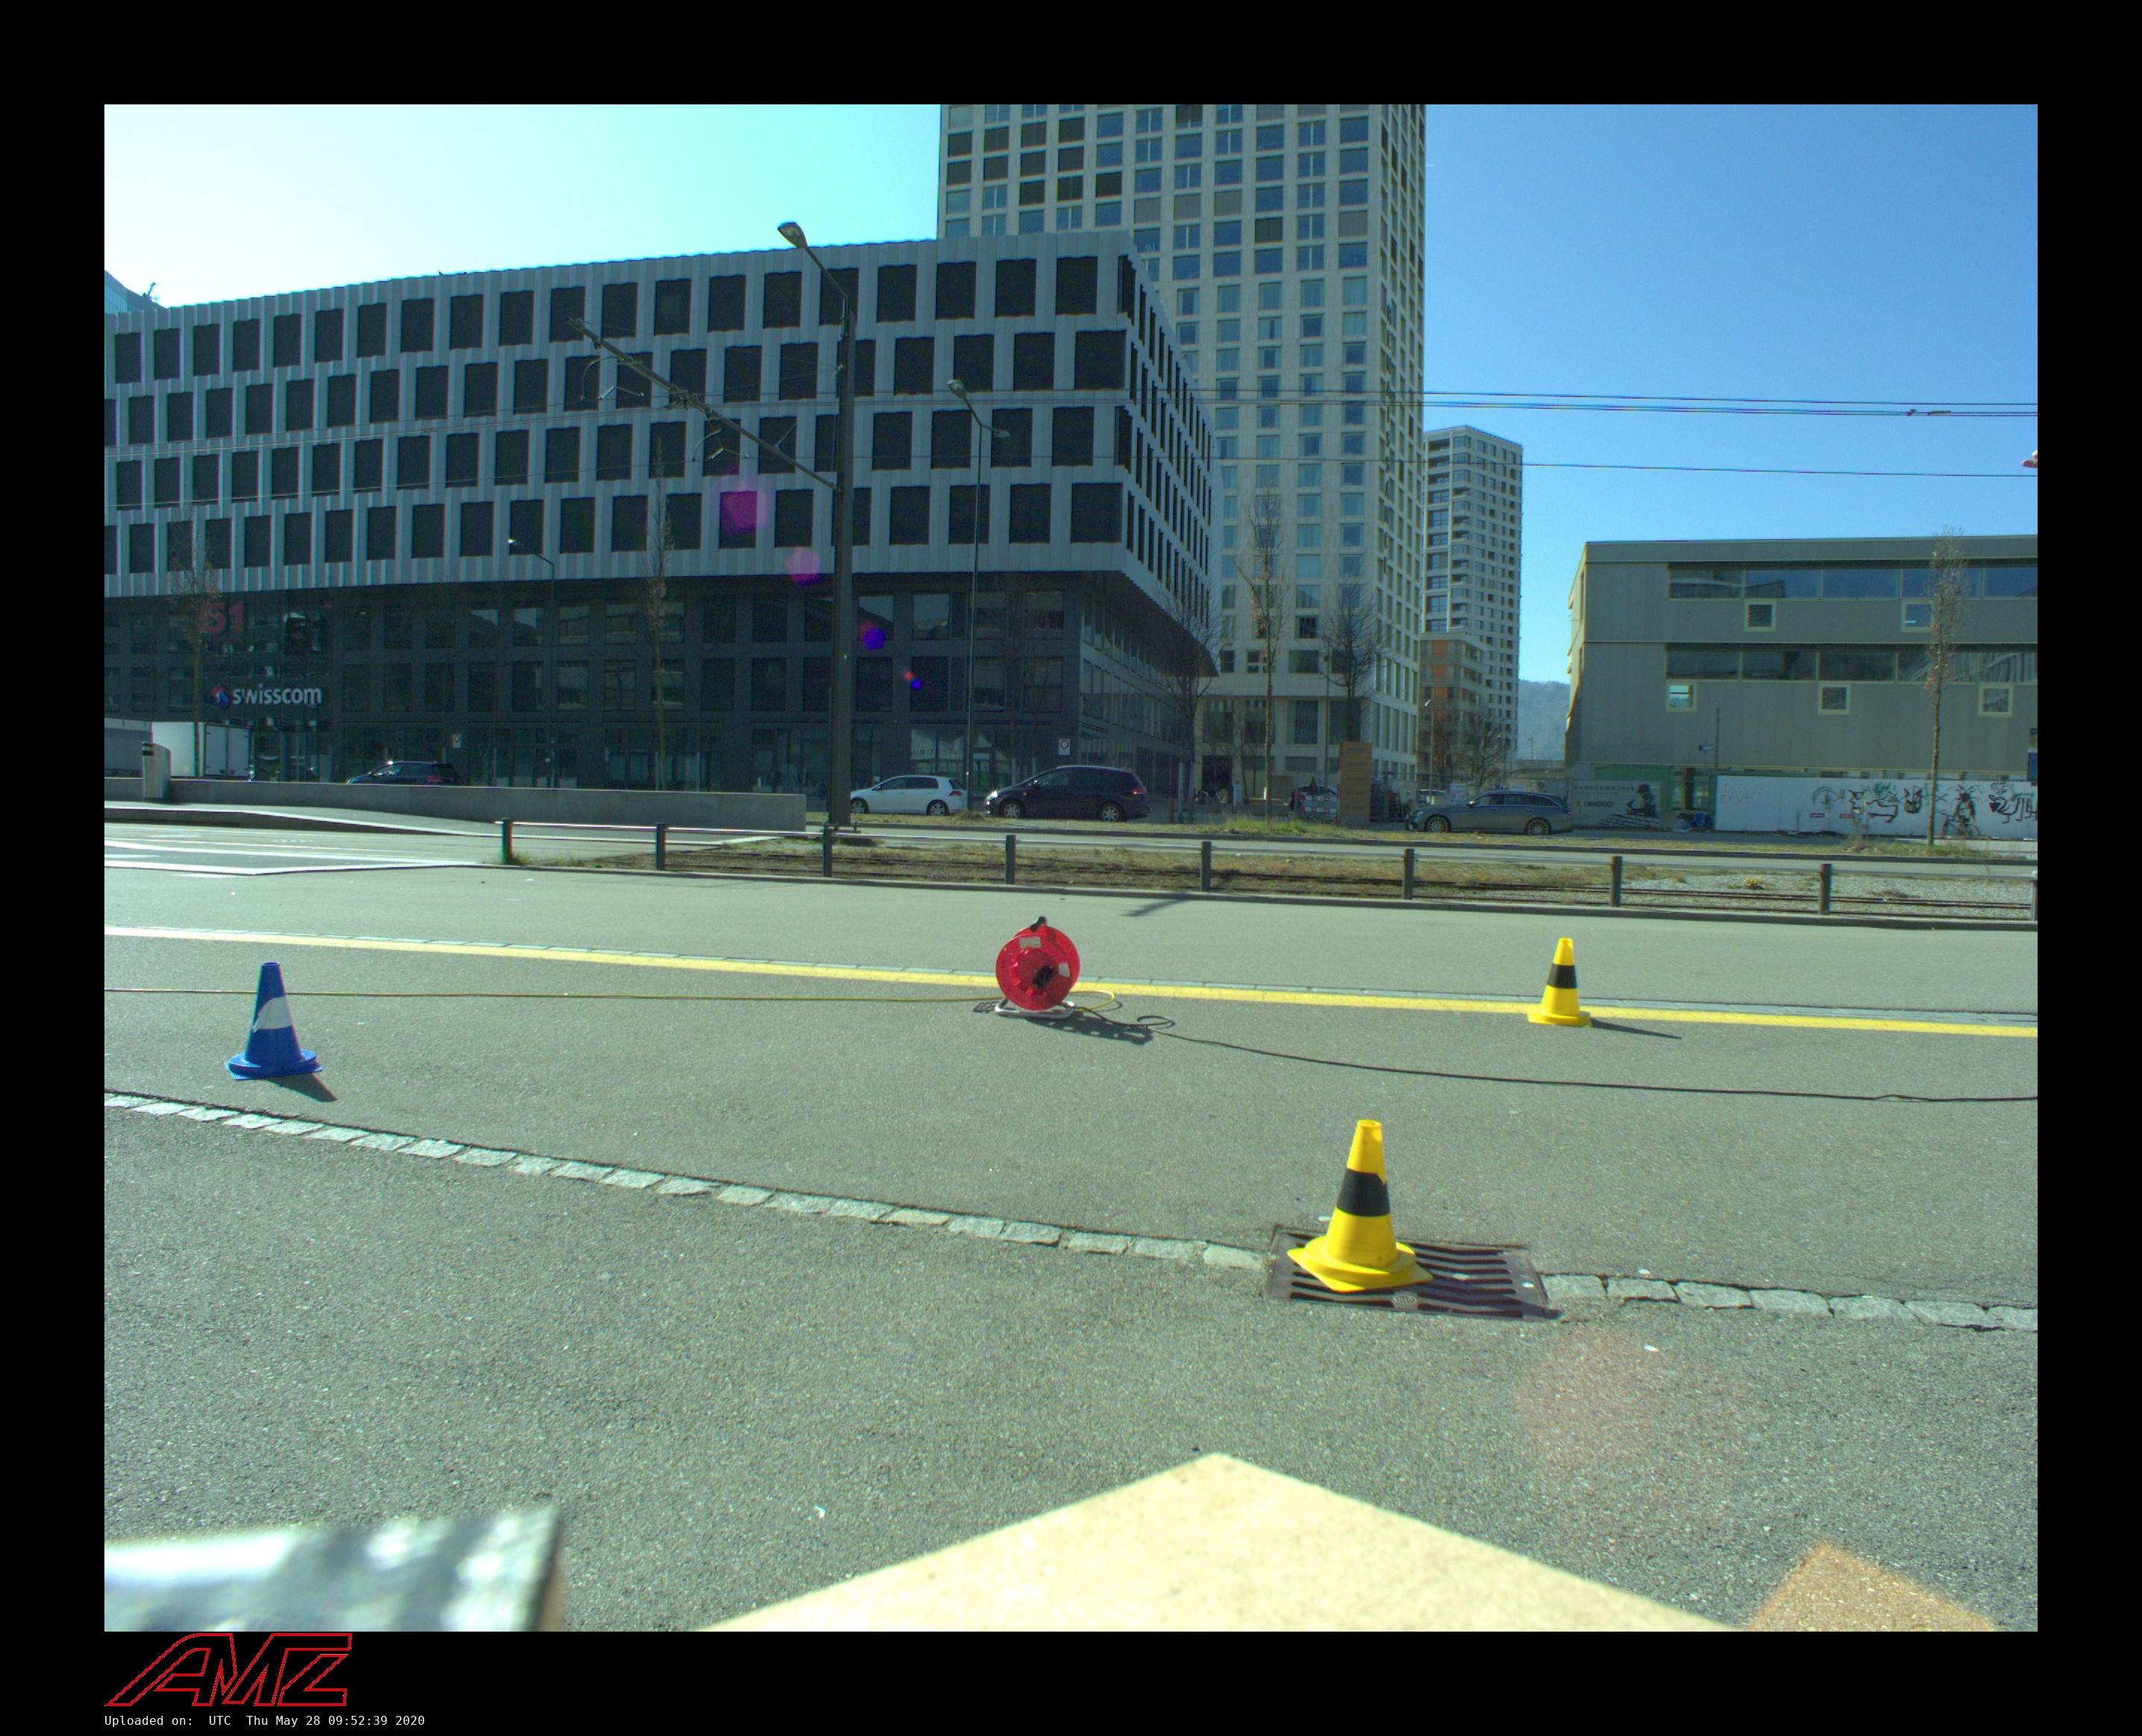blue_cone: (224, 963, 323, 1081)
yellow_cone: (1286, 1120, 1436, 1292), (1527, 937, 1592, 1028)
